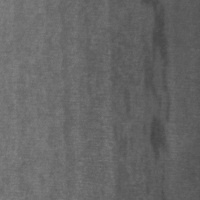inclusion: (141, 1, 178, 173)
